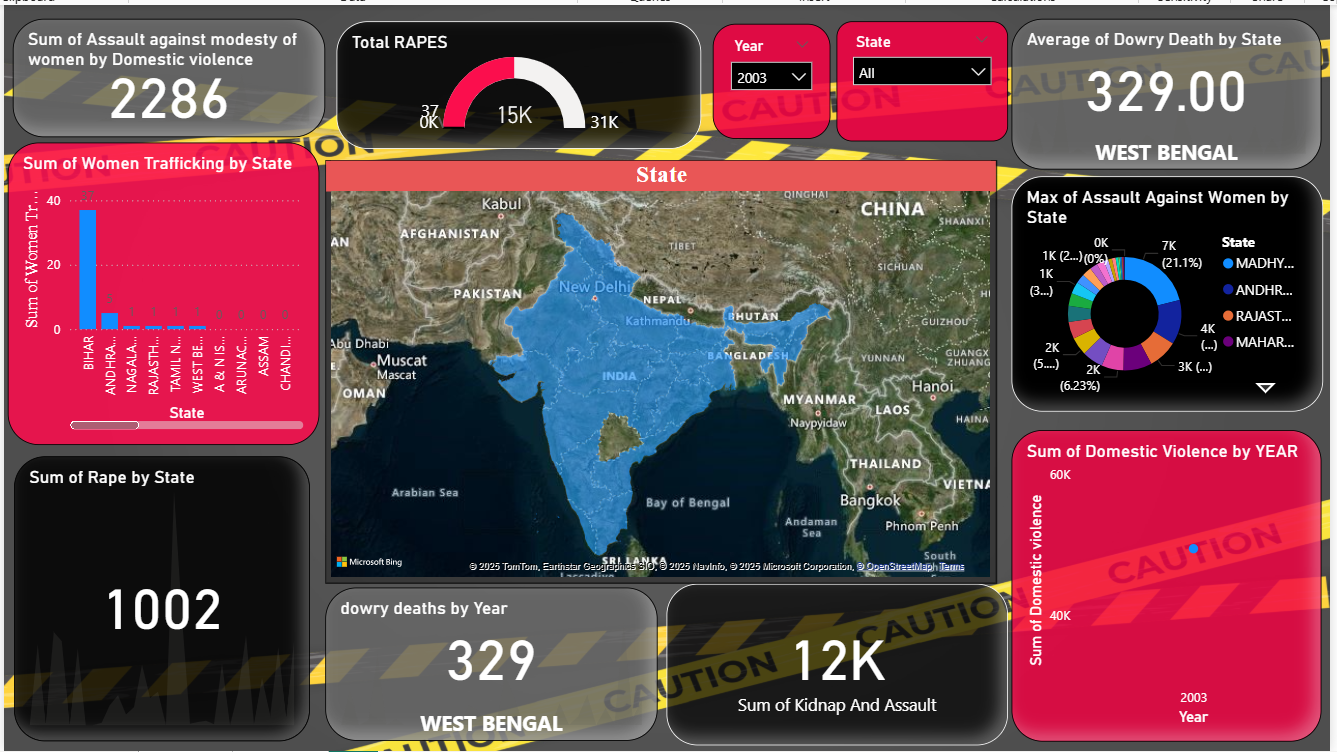

This screenshot's page, from the dashboard's own definition file:
{"tool":"powerbi","page":{"name":"Page 1","canvas":[1280,720],"ordinal":0},"visuals":[{"type":"lineChart","title":"Sum of Domestic Violence by  YEAR","fields":{"Y":["Sum(CrimesOnWomenData.Domestic violence)"],"Category":["CrimesOnWomenData.Year"]},"box":[972.4,410.2,299.2,300.4],"z":0},{"type":"kpi","title":"Sum of Rape by State ","fields":{"Indicator":["Sum(CrimesOnWomenData.Rape)"],"TrendLine":["CrimesOnWomenData.State"]},"box":[9.7,435.5,285.9,275.1],"z":1000},{"type":"donutChart","title":"Max of Assault Against Women by State","fields":{"Y":["Max(CrimesOnWomenData (2).Assault against women)"],"Category":["CrimesOnWomenData.State"]},"box":[972.4,165.3,300.4,226.8],"z":2000},{"type":"kpi","title":" dowry deaths  by Year","fields":{"TrendLine":["CrimesOnWomenData.State"],"Indicator":["Sum(CrimesOnWomenData.Dowry Deaths)"]},"box":[310.1,562.2,320.9,148.4],"z":3000},{"type":"card","fields":{"Values":["Sum(CrimesOnWomenData.Kidnap And Assault)"]},"box":[639.4,558.6,329.4,155.6],"z":4000},{"type":"slicer","fields":{"Values":["CrimesOnWomenData (2).State"]},"box":[803.5,15.7,165.3,115.8],"z":5000},{"type":"kpi","title":"Average of Dowry Death by State","fields":{"Indicator":["Avg(CrimesOnWomenData (2).Dowry Deaths)"],"TrendLine":["CrimesOnWomenData (2).State"]},"box":[972.4,13.3,299.2,146],"z":6000},{"type":"slicer","fields":{"Values":["CrimesOnWomenData (2).Year"]},"box":[684.1,18.1,113.4,111],"z":7000},{"type":"kpi","fields":{"Indicator":["Sum(CrimesOnWomenData (2).Assault against modesty of women)"],"TrendLine":["CrimesOnWomenData.Domestic violence"]},"box":[8.4,13.3,301.6,114.6],"z":8000},{"type":"gauge","title":"Total RAPES","fields":{"TargetValue":["CountNonNull(CrimesOnWomenData (2).State)"],"Y":["Sum(CrimesOnWomenData.Rape)"]},"box":[320.9,15.7,352.3,123.1],"z":9000},{"type":"filledMap","fields":{"Category":["CrimesOnWomenData.State"]},"box":[310.1,149.6,647.9,409],"z":10000},{"type":"clusteredColumnChart","fields":{"Category":["CrimesOnWomenData (2).State"],"Y":["Sum(CrimesOnWomenData.Women Trafficking)"]},"box":[3.6,132.7,300.4,292],"z":11000}]}

Visuals, with their boxes in screenshot pixels (x1, y1, x2, y2), scaled from the page's 1280x720 canvas onto the 1337x752 screenshot:
"Sum of Domestic Violence by  YEAR" lineChart: l=1016, t=428, r=1328, b=742
"Sum of Rape by State " kpi: l=10, t=455, r=309, b=742
"Max of Assault Against Women by State" donutChart: l=1016, t=173, r=1329, b=410
" dowry deaths  by Year" kpi: l=324, t=587, r=659, b=742
card - Sum(CrimesOnWomenData.Kidnap And Assault): l=668, t=583, r=1012, b=746
slicer - CrimesOnWomenData (2).State: l=839, t=16, r=1012, b=137
"Average of Dowry Death by State" kpi: l=1016, t=14, r=1328, b=166
slicer - CrimesOnWomenData (2).Year: l=715, t=19, r=833, b=135
kpi - Sum(CrimesOnWomenData (2).Assault against modesty of women) x CrimesOnWomenData.Domestic violence: l=9, t=14, r=324, b=134
"Total RAPES" gauge: l=335, t=16, r=703, b=145
filledMap - CrimesOnWomenData.State: l=324, t=156, r=1001, b=583
clusteredColumnChart - CrimesOnWomenData (2).State x Sum(CrimesOnWomenData.Women Trafficking): l=4, t=139, r=318, b=444
